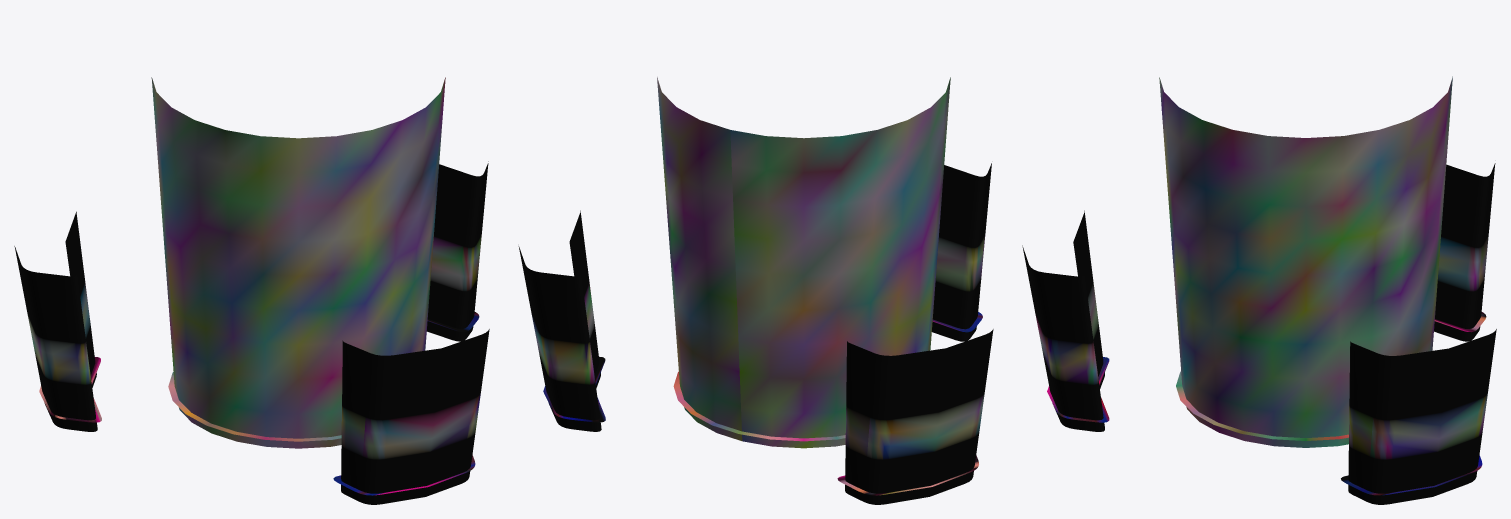
The model's file is BoostPad_Small_02_SM.gltf.
3 renders of one model, left to right at view 1: azimuth 30°, elevation 25°; view 2: azimuth 150°, elevation 25°; view 3: azimuth 270°, elevation 25°, orthographic.
Visible parts, largest first — view 1: BoostPad_Small_02_SM; view 2: BoostPad_Small_02_SM; view 3: BoostPad_Small_02_SM.
Part boxes in pixels (x1=…): BoostPad_Small_02_SM: x1=14, y1=77, x2=489, y2=504; BoostPad_Small_02_SM: x1=518, y1=77, x2=993, y2=504; BoostPad_Small_02_SM: x1=1022, y1=76, x2=1496, y2=504.
Size of the model in its own units: 0.9185 by 0.6241 by 0.82.
